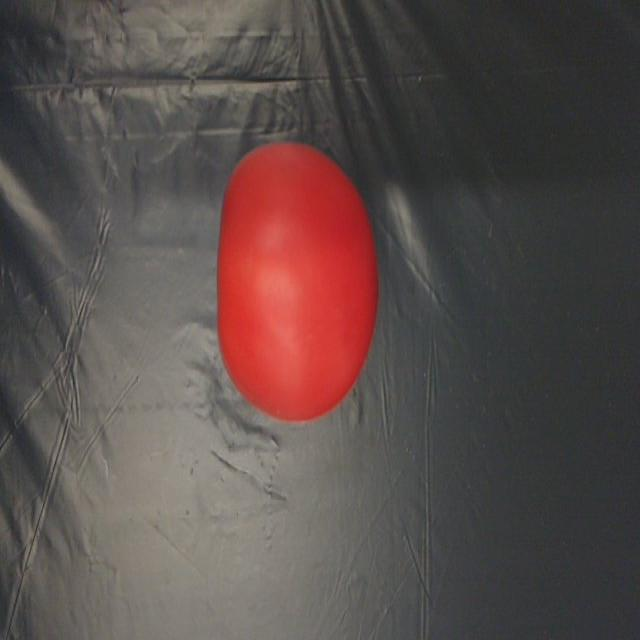kirmizi: (207, 124, 403, 430)
